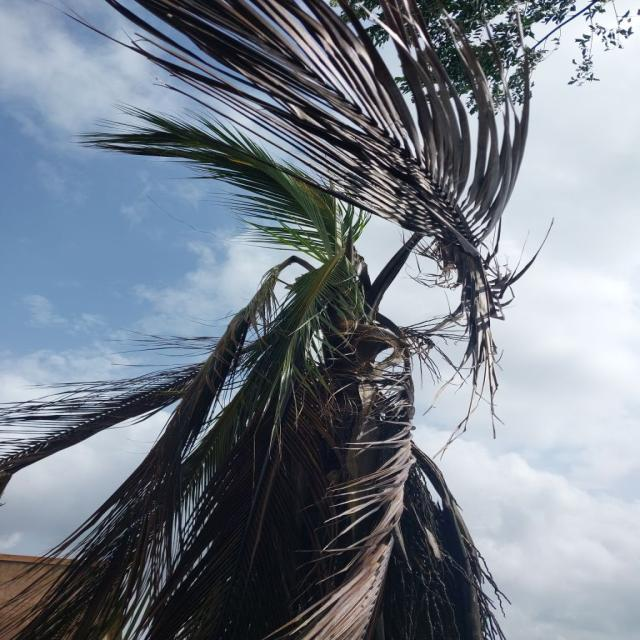bud root dropping: (3, 116, 502, 639)
